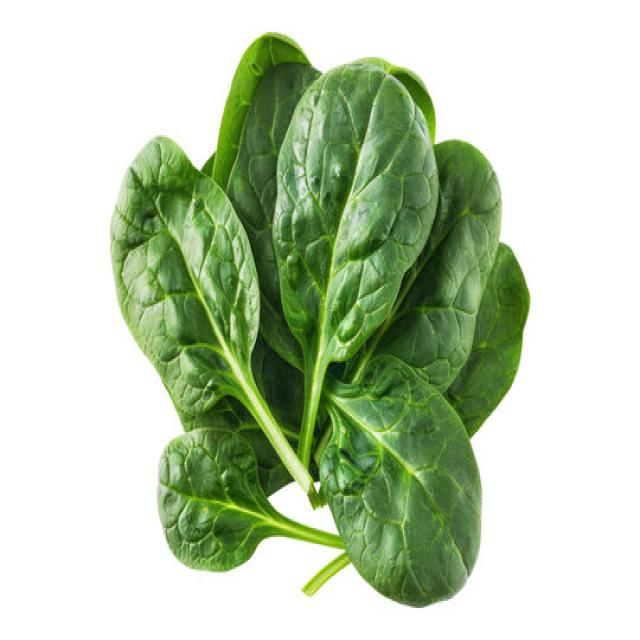Radish: (109, 132, 325, 508), (156, 423, 351, 594)
Spinach: (108, 30, 530, 608)
